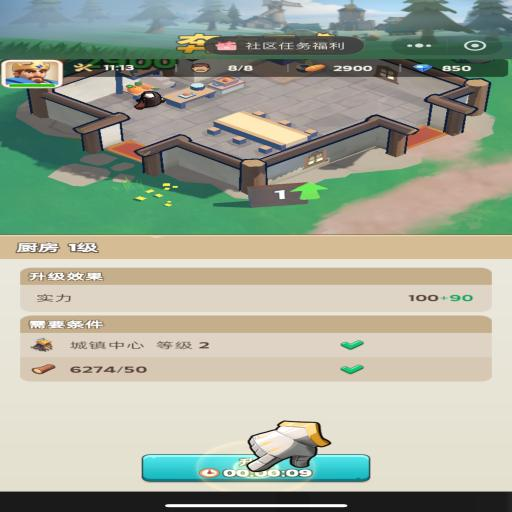newcomer_hand: (244, 420, 330, 470)
